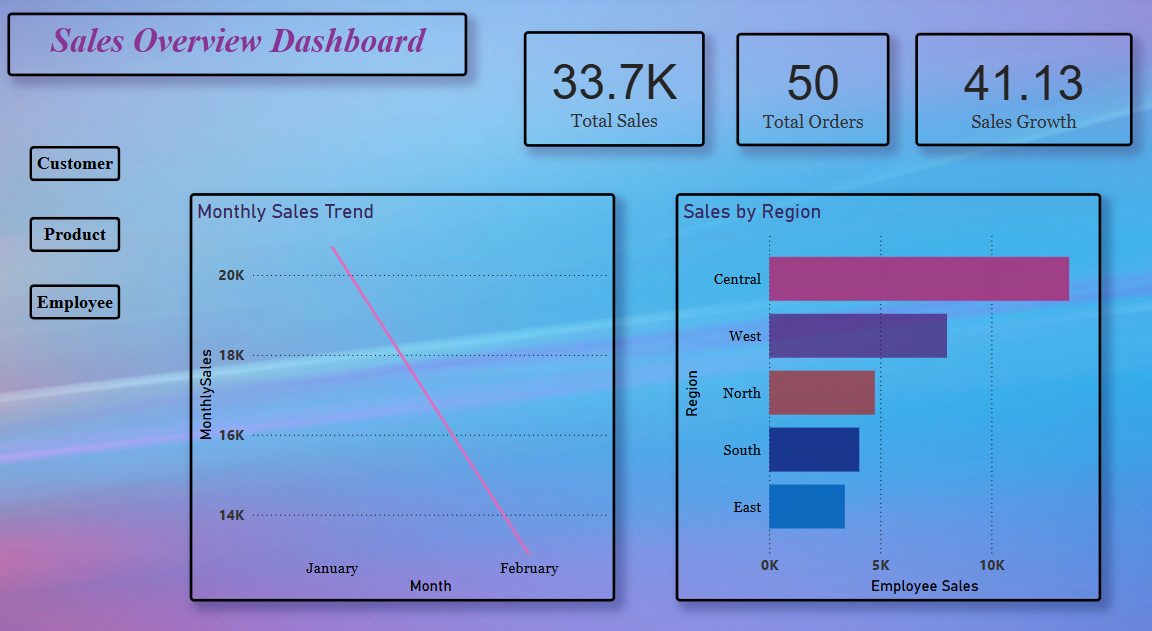

The dashboard page shown, as its layout file describes it:
{"tool":"powerbi","page":{"name":"Sales ","canvas":[1280,720],"ordinal":0},"visuals":[{"type":"textbox","box":[9.5,21,509.3,70.6],"z":0},{"type":"card","fields":{"Values":["Orders.Total Sales"]},"box":[581.8,42,200.3,127.8],"z":1000},{"type":"card","fields":{"Values":["Orders.Total Orders"]},"box":[816.5,43.9,169.8,125.9],"z":2000},{"type":"card","fields":{"Values":["Orders.Sales Growth MoM"]},"box":[1014.8,43.9,240.4,125.9],"z":3000},{"type":"lineChart","title":"Monthly Sales Trend","fields":{"Y":["Orders.MonthlySales"],"Category":["CalendarTable.Date.Variation.Date Hierarchy.Month"]},"box":[211.7,221.3,471.2,452.1],"z":4000},{"type":"clusteredBarChart","title":"Sales by Region","fields":{"Category":["Employees.Region"],"Y":["Employees.Employee Sales"]},"box":[749.7,221.3,471.2,452.1],"z":5000},{"type":"actionButton","box":[33.6,168.1,100.9,39.2],"z":6000},{"type":"actionButton","box":[33.6,246.6,100.9,39.2],"z":7000},{"type":"actionButton","box":[33.6,321.3,100.9,39.2],"z":8000}]}

Visuals, with their boxes in screenshot pixels (x1, y1, x2, y2), scaled from the page's 1280x720 canvas onto the 1152x631 screenshot:
textbox: select_region(9, 18, 467, 80)
card - Orders.Total Sales: select_region(524, 37, 704, 149)
card - Orders.Total Orders: select_region(735, 38, 888, 149)
card - Orders.Sales Growth MoM: select_region(913, 38, 1130, 149)
"Monthly Sales Trend" lineChart: select_region(191, 194, 615, 590)
"Sales by Region" clusteredBarChart: select_region(675, 194, 1099, 590)
actionButton: select_region(30, 147, 121, 182)
actionButton: select_region(30, 216, 121, 250)
actionButton: select_region(30, 282, 121, 316)
